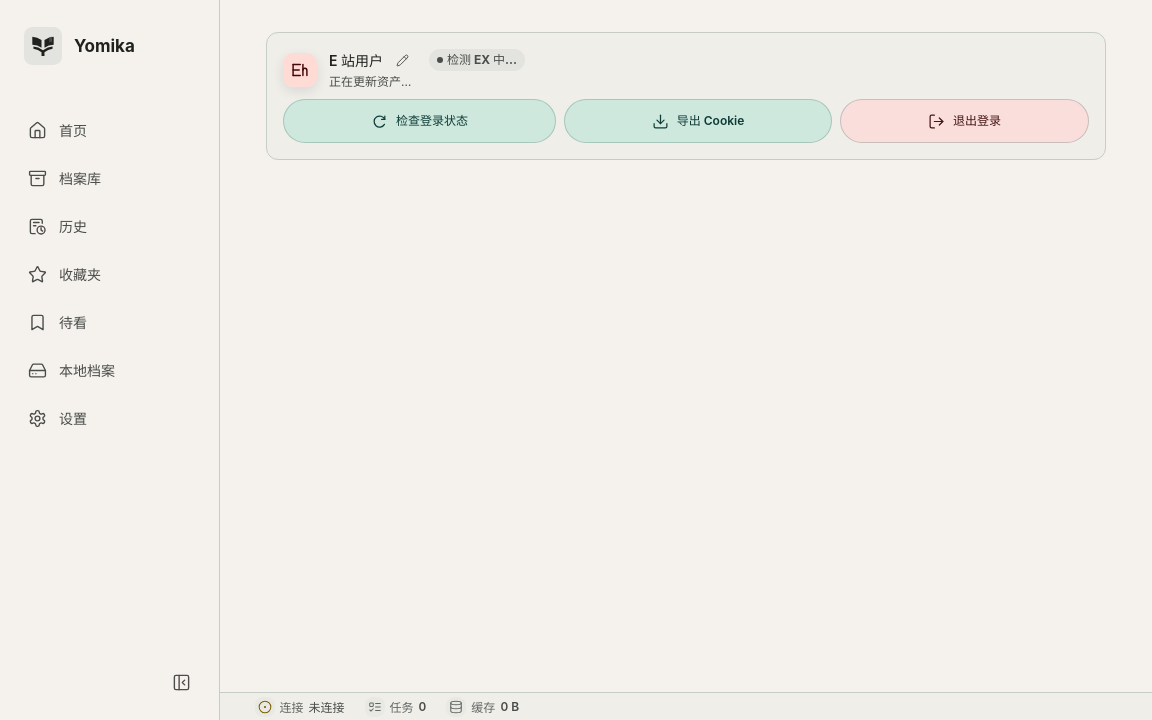
Scenario: EH route workspace › keeps a manually edited name when the startup health probe finishes later
The image size is (1152, 720).
Click the button named "编辑 E 站用户 的账户名". click: (402, 60)
box: x1=391 y1=49 x2=413 y2=71
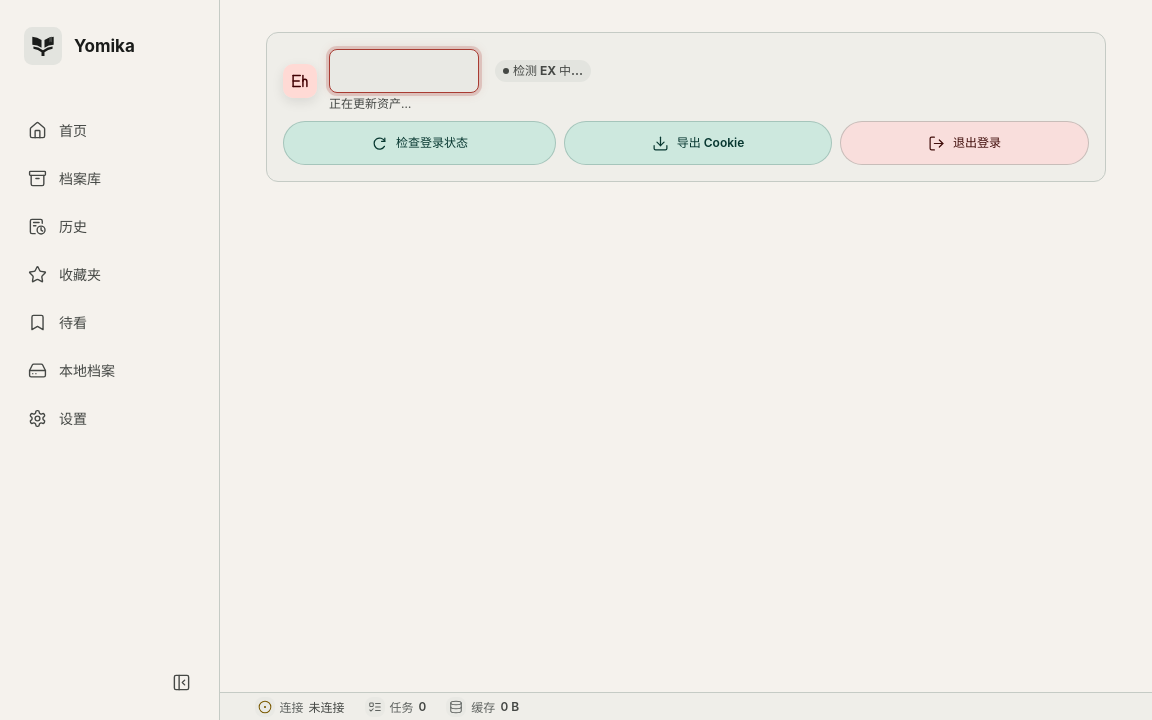
Type "My name" into the field named "账户名". click: (404, 71)
box: x1=329 y1=49 x2=479 y2=93
Then press Enter
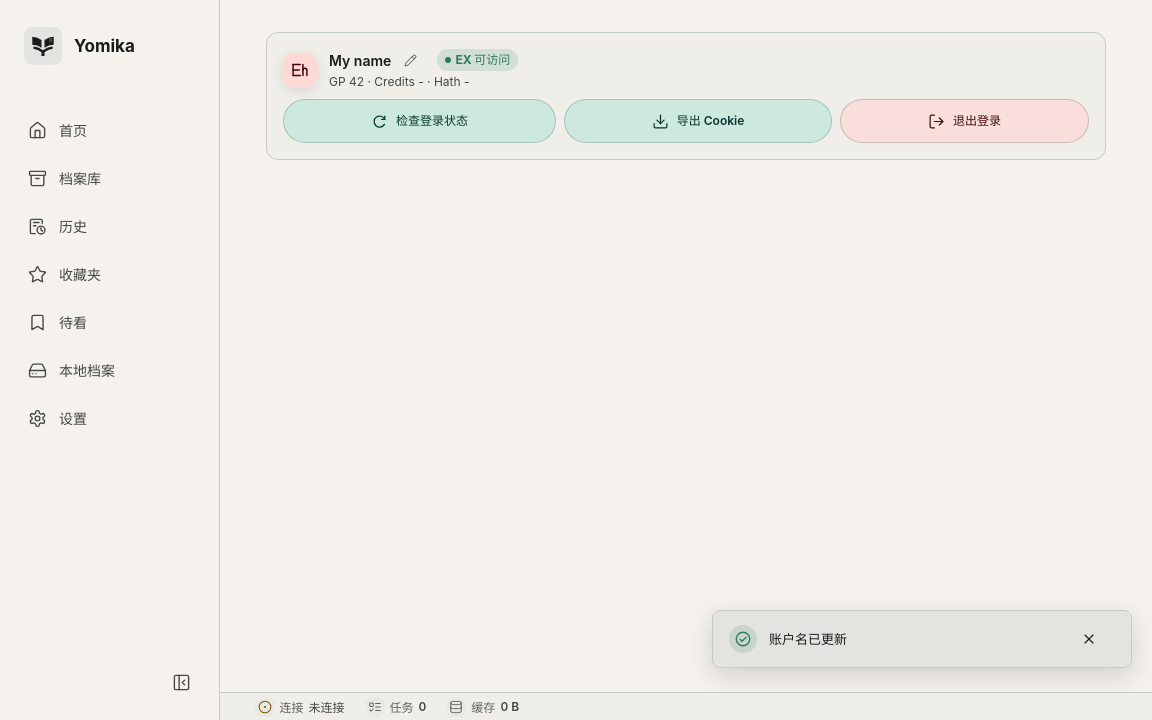
Now the text "My name" is shown, box x1=329 y1=52 x2=391 y2=68
Now the text "GP 42 · Credits - · Hath -" is shown, box x1=329 y1=74 x2=470 y2=89
